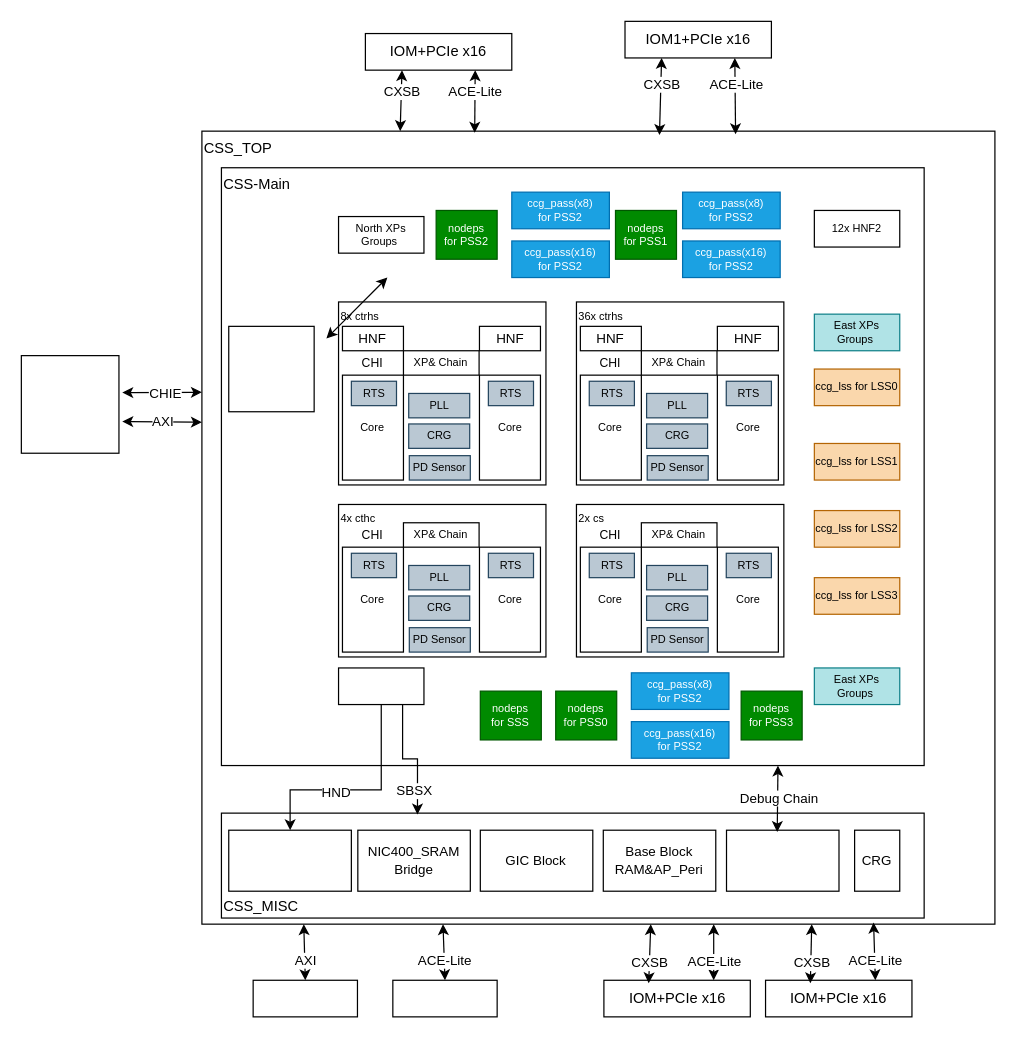
The diagram is 1016 pixels wide and 1038 high, and some of its shapes have lost their labels. Here are the shapes that lost their labels. From the top down, the centre of each, then its label:
the point at 271,368: wrs
the point at 69,403: DDR SubSystem
the point at 380,686: South XPs Groups
the point at 289,860: NIC400_Periphery Bridge
the point at 782,860: CSS_DebugBlock
the point at 304,998: MSCP
the point at 444,998: XXX
